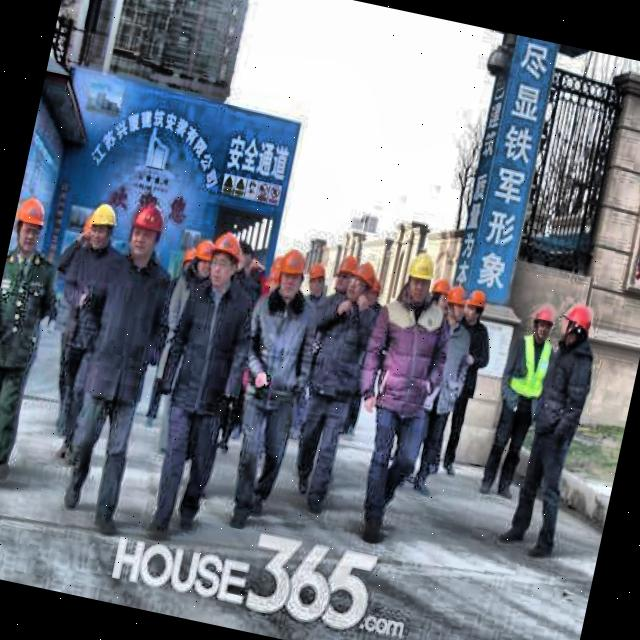helmet: (121, 196, 169, 265), (8, 190, 52, 260), (200, 228, 247, 292), (395, 248, 440, 312), (344, 250, 386, 313), (553, 298, 595, 356), (80, 199, 121, 257), (272, 244, 312, 302), (438, 280, 472, 326), (187, 233, 217, 284), (527, 299, 558, 347), (462, 282, 493, 328), (302, 257, 330, 300), (424, 276, 450, 320), (331, 252, 356, 294)
